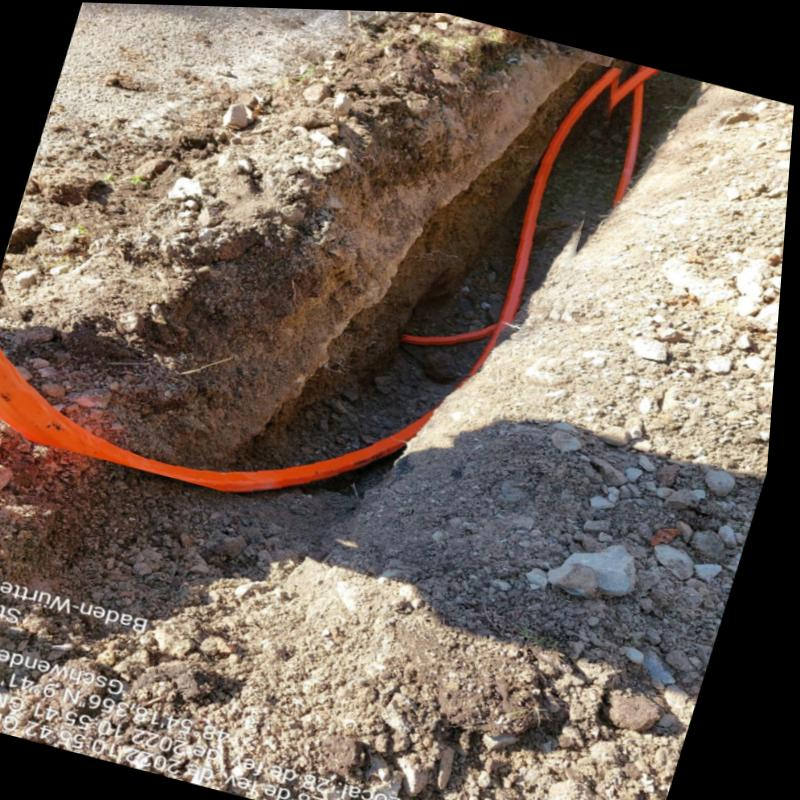Orang-Speednetrohrchen: (0, 65, 626, 488)
